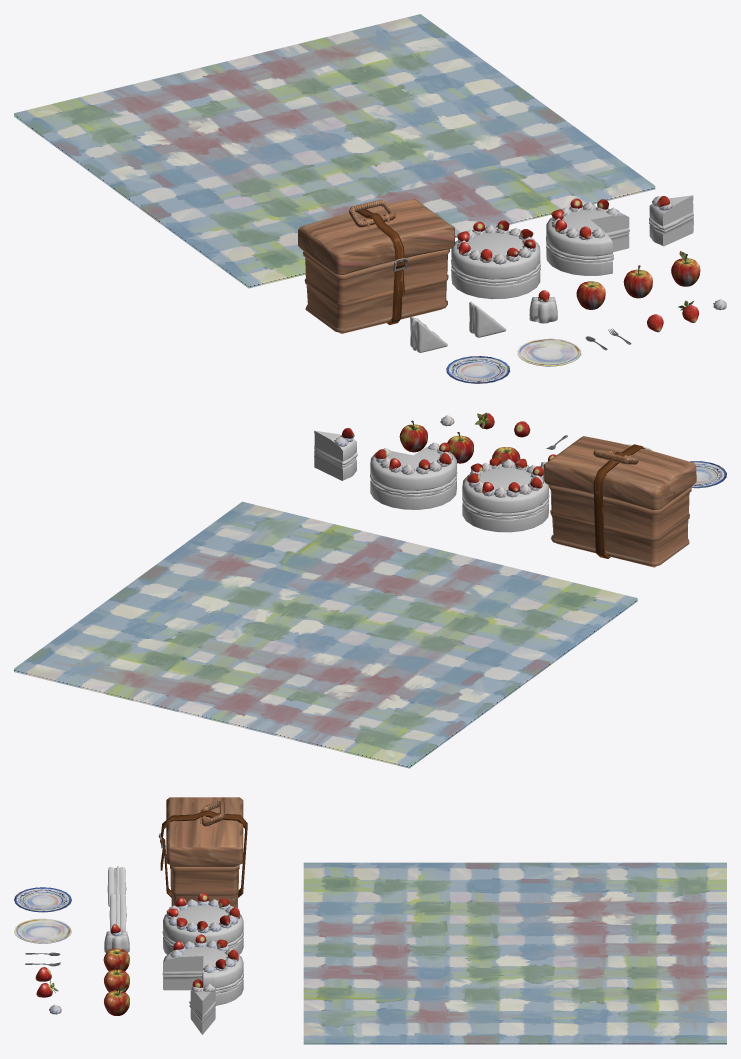
Rendered from PicnicPropSet.fbx.
The picture shows the model from 3 angles, top to bottom: view 1: azimuth 30°, elevation 25°; view 2: azimuth 150°, elevation 25°; view 3: azimuth 270°, elevation 25°; orthographic projection. The views are drawn at different scales.
Visible parts, largest first — view 1: PicnicBlanket, Basket_Combined, CakeWholeDecor, CakeThreeQuarterDecor, CakeSliceDecor, Plate2, Plate1, Sandwhich1, Sandwhich2, BlancmangeDecor, AppleStalkLeaf, AppleStalk (+1 smaller); view 2: PicnicBlanket, Basket_Combined, CakeWholeDecor, CakeThreeQuarterDecor, CakeSliceDecor, Plate1, AppleStalkLeaf, AppleStalk; view 3: PicnicBlanket, Basket_Combined, CakeThreeQuarterDecor, CakeWholeDecor, Plate2, Plate1, CakeSliceDecor, Sandwhich2, AppleStalkLeaf, BlancmangeDecor, Sandwhich1, Apple (+1 smaller).
Boxes of the visible parts, x1,y1,x2,y2 form: PicnicBlanket: (14,14,655,288); Basket_Combined: (298,199,454,333); CakeWholeDecor: (451,220,540,299); CakeThreeQuarterDecor: (546,198,629,275); CakeSliceDecor: (649,195,693,246); Plate2: (517,338,581,366); Plate1: (446,356,510,383); Sandwhich1: (410,316,447,352); Sandwhich2: (469,301,506,337); BlancmangeDecor: (529,290,557,323); AppleStalkLeaf: (671,251,700,286); AppleStalk: (623,265,652,298); PicnicBlanket: (14,501,637,768); Basket_Combined: (543,436,696,567); CakeWholeDecor: (462,457,549,532); CakeThreeQuarterDecor: (370,442,457,509); CakeSliceDecor: (314,428,357,480); Plate1: (690,461,726,488); AppleStalkLeaf: (399,420,427,452); AppleStalk: (447,432,473,463); PicnicBlanket: (303,862,726,1044); Basket_Combined: (158,797,247,907); CakeThreeQuarterDecor: (162,934,243,1005); CakeWholeDecor: (162,893,243,954); Plate2: (14,918,71,943); Plate1: (14,887,71,912); CakeSliceDecor: (189,979,216,1034); Sandwhich2: (109,893,126,931); AppleStalkLeaf: (104,987,129,1015); BlancmangeDecor: (104,924,129,952); Sandwhich1: (107,866,126,906); Apple: (103,948,129,970).
Size of the model in its own units: 34.33 by 8.34 by 57.83.
